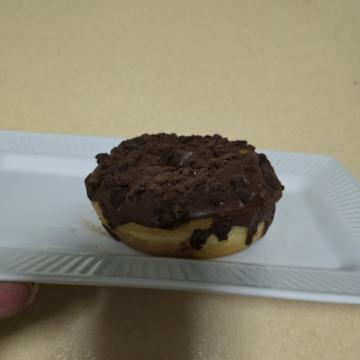doughnut: (122, 72, 273, 286)
